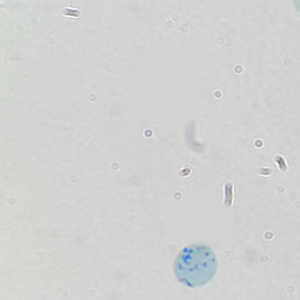aggregate reticulocyte: (172, 241, 220, 289)
